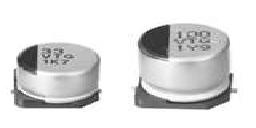Electrolytic-Capacitor: (132, 21, 240, 109), (14, 41, 106, 110)
